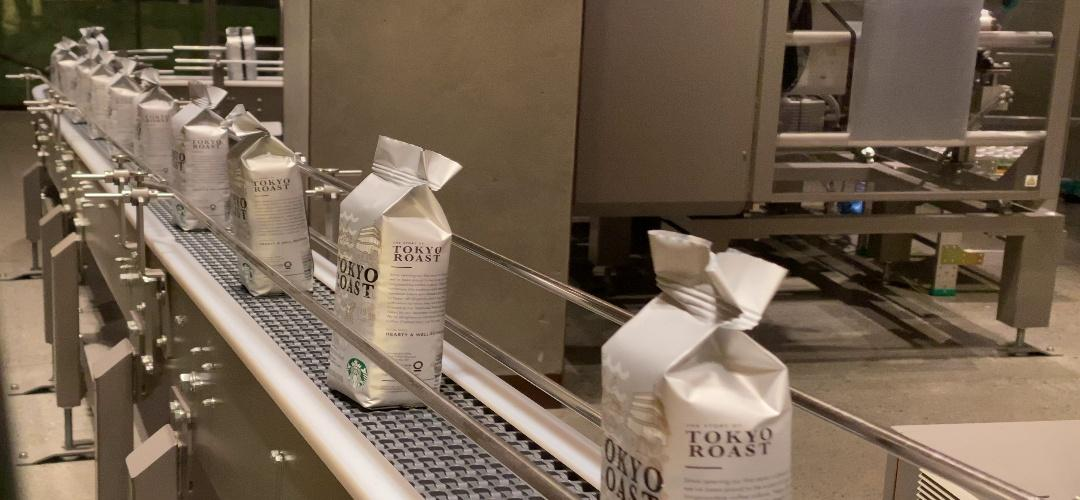conveyor: (600, 346, 792, 496), (333, 202, 446, 314), (230, 153, 312, 239)
